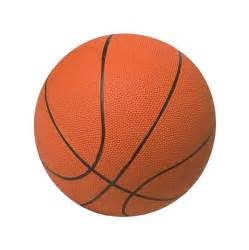basketball: (33, 33, 218, 219)
